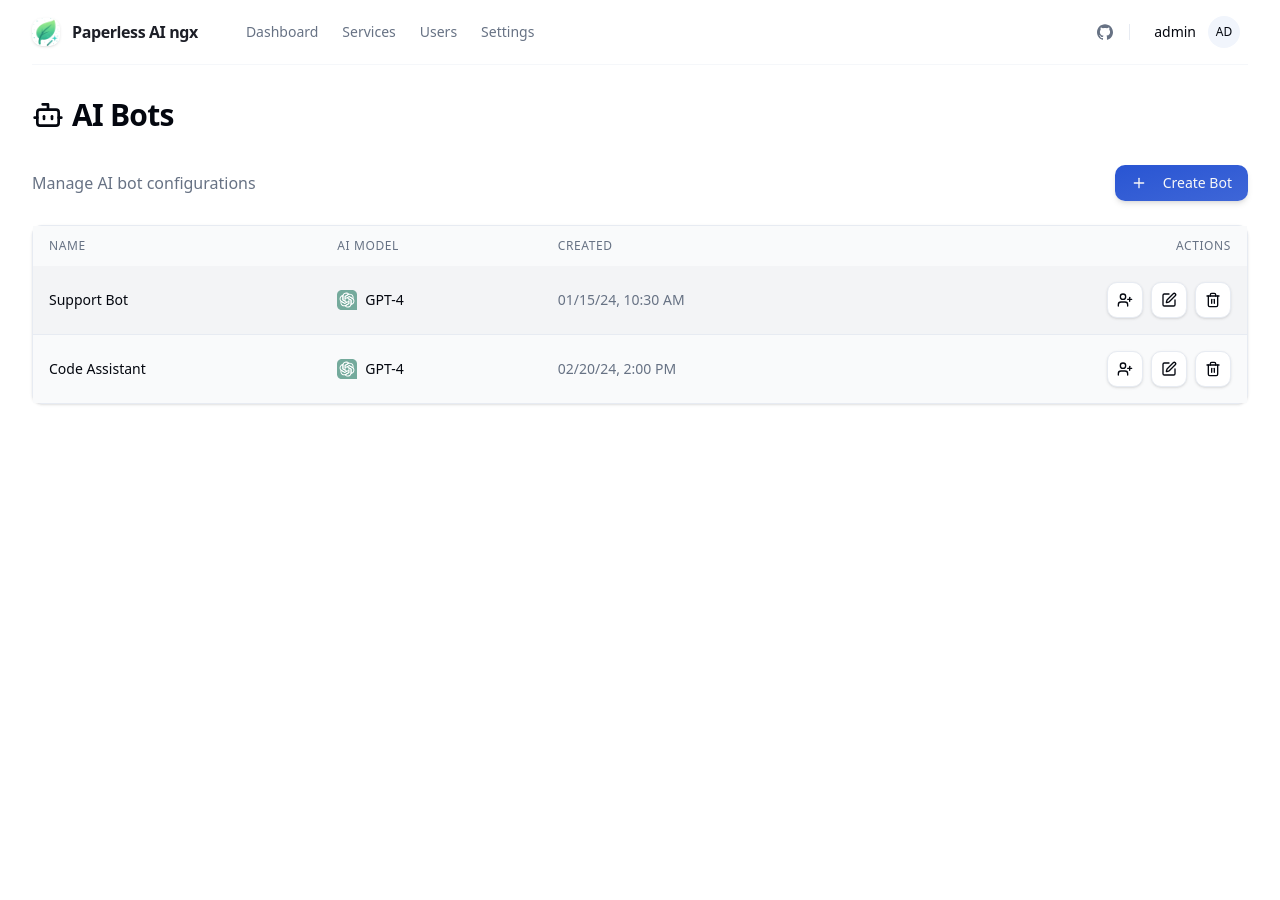
it: AiBotsPage › share dialog › opens and closes share dialog when share button is clicked in ADVANCED mode
The width and height of the screenshot is (1280, 900).
Click the button with test id "share-bot-bot-1" at (1125, 300), box [1107,282,1143,318]
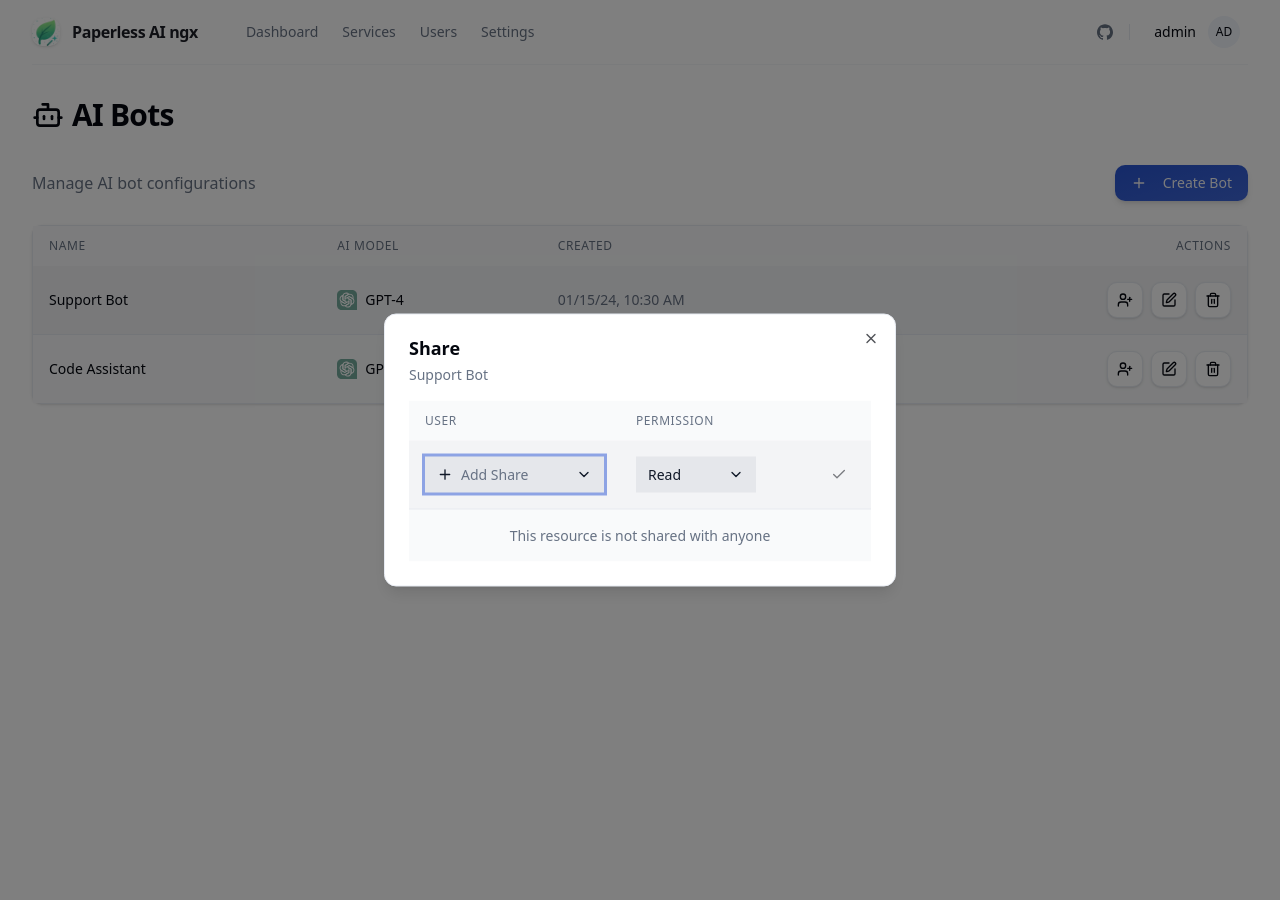
Expected: the dialog is shown, [384,314,896,586]
// Close by clicking outside or pressing escape
Press Escape
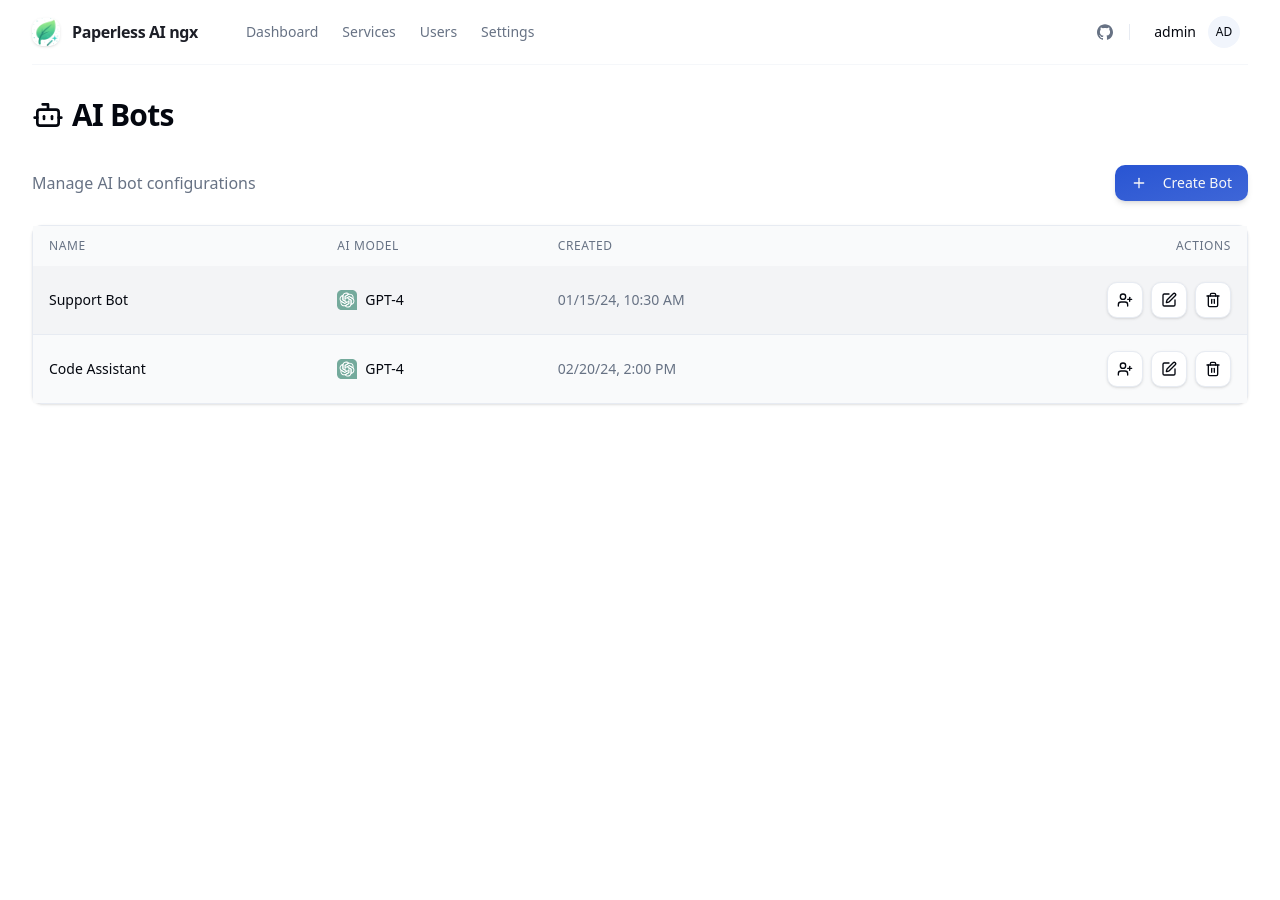
Expected: the dialog is gone
